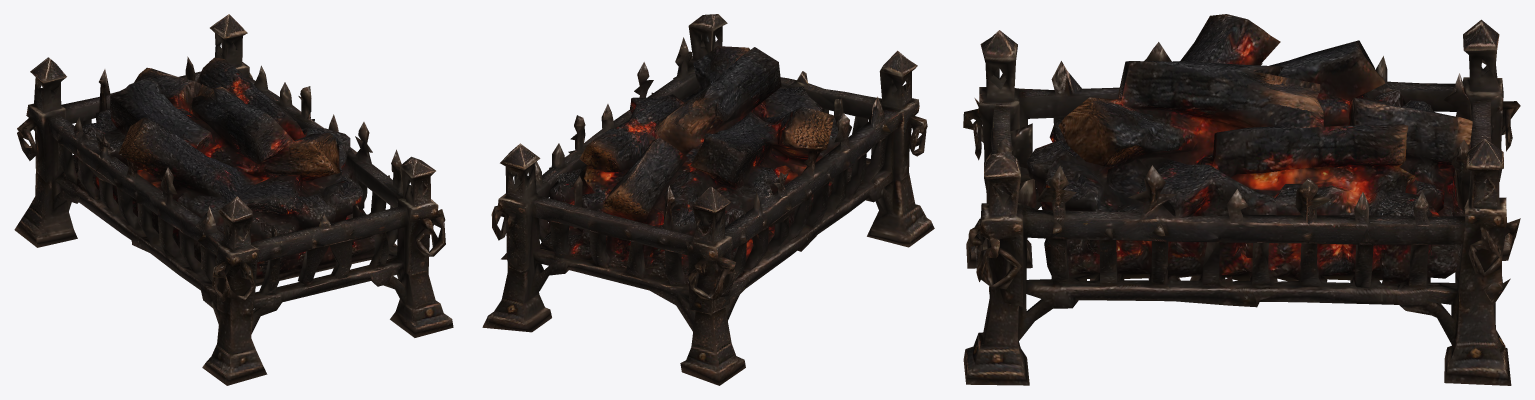
Rendered from raw_grate.glb.
3 views of the same model, side by side, from view 1: azimuth 30°, elevation 25°; view 2: azimuth 150°, elevation 25°; view 3: azimuth 270°, elevation 25° (orthographic). The views are drawn at different scales.
Parts seen in each view (by area): view 1: tripo_node_be66c299-be86-45cb-af08-64719e8ead4e; view 2: tripo_node_be66c299-be86-45cb-af08-64719e8ead4e; view 3: tripo_node_be66c299-be86-45cb-af08-64719e8ead4e.
Boxes of the visible parts, <box> form: tripo_node_be66c299-be86-45cb-af08-64719e8ead4e: <box>14,14,453,385</box>; tripo_node_be66c299-be86-45cb-af08-64719e8ead4e: <box>482,14,934,385</box>; tripo_node_be66c299-be86-45cb-af08-64719e8ead4e: <box>963,14,1520,385</box>.
Bounding box in the file's own units: 0.6449 × 0.5019 × 1.
Materials: 1 (1 with a texture image).
